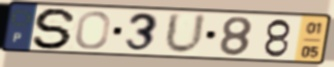3: (122, 11, 163, 54)
8: (219, 15, 254, 57), (263, 18, 291, 58)
O: (73, 9, 113, 51)
S: (31, 7, 80, 51)
U: (162, 10, 209, 56)
